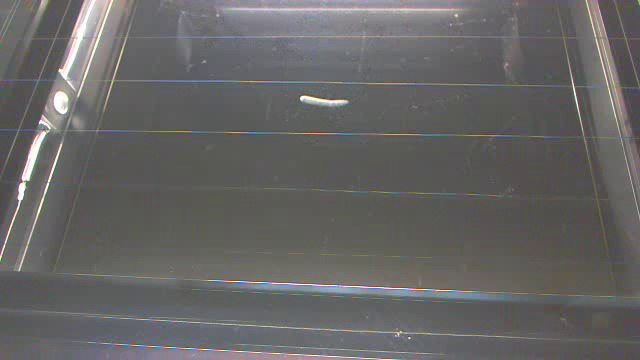Alfa: (297, 88, 362, 114)
